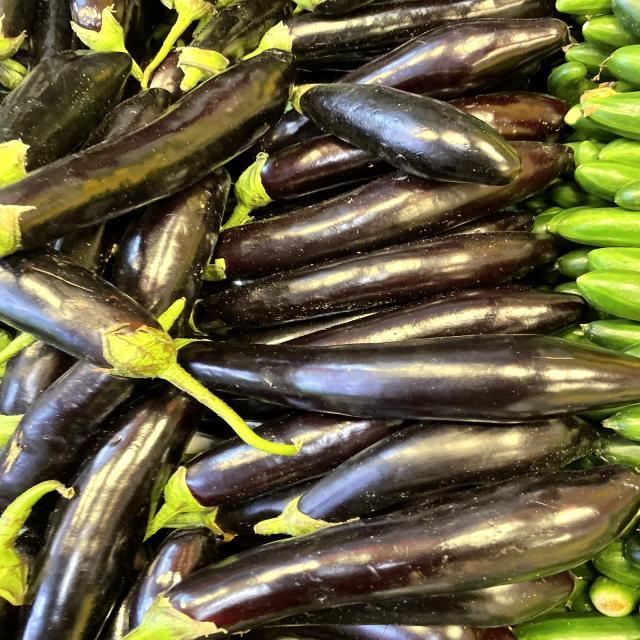eggplant: (121, 454, 640, 640), (0, 22, 325, 261), (280, 66, 531, 189)
